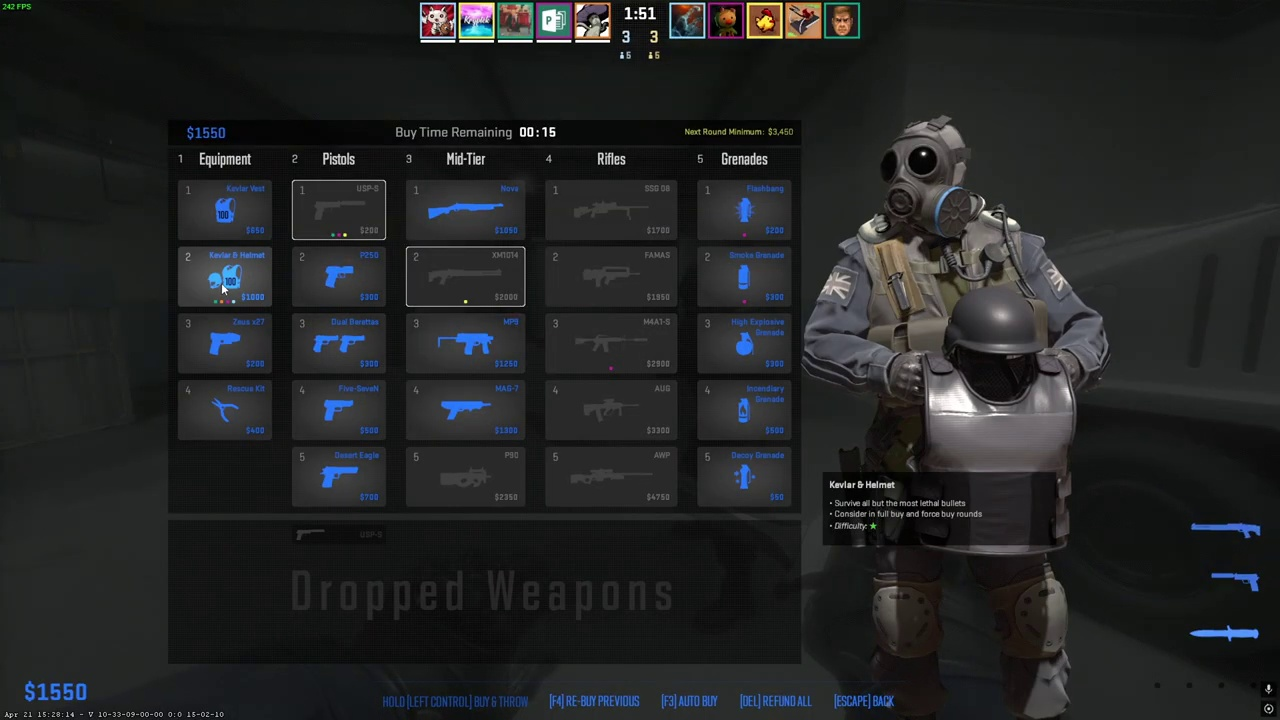CT: (851, 122, 1083, 720)
